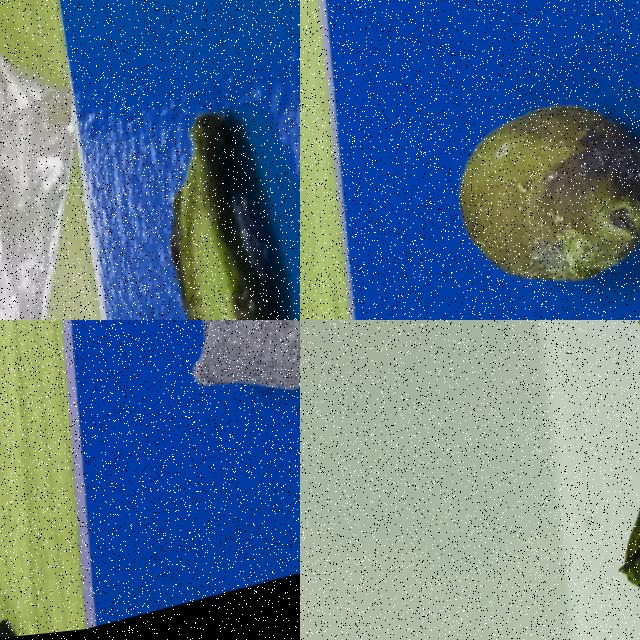Agglomerated_cocoabeans: (101, 320, 299, 496)
Fine_cocoabeans: (398, 28, 639, 319)
Flat_cocoabeans: (52, 15, 299, 319), (543, 320, 639, 639)
